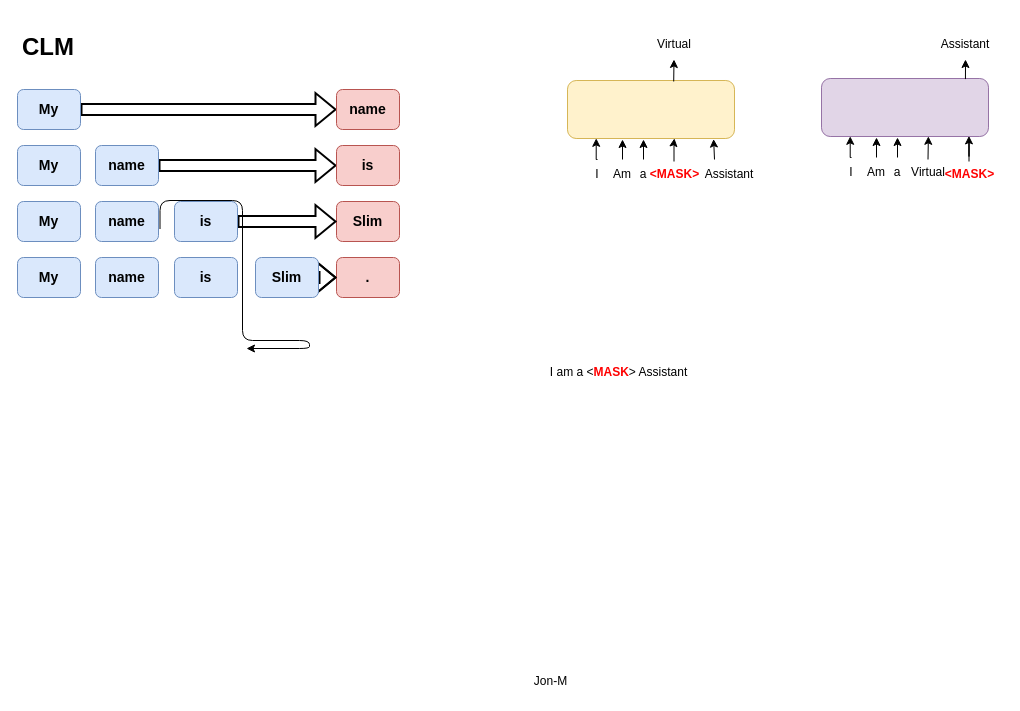
The diagram is 1020 pixels wide and 711 high, and some of its shapes have lost their labels. Each missing label, with the centre of its shape:
"Causal Language Modeling" belongs at point (904, 107).
"Masked Language Modeling" belongs at point (650, 109).
